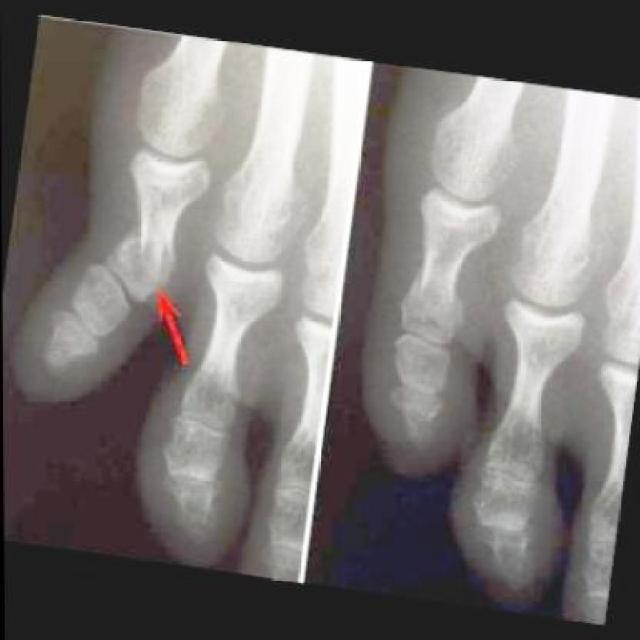Fracture: (393, 274, 464, 342), (109, 232, 176, 300)
